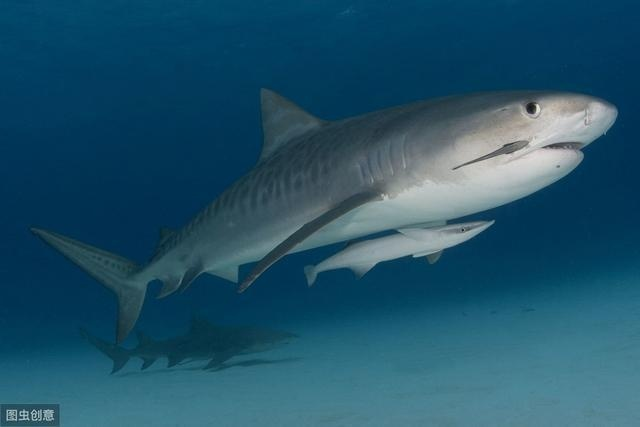fish: (20, 82, 618, 346)
